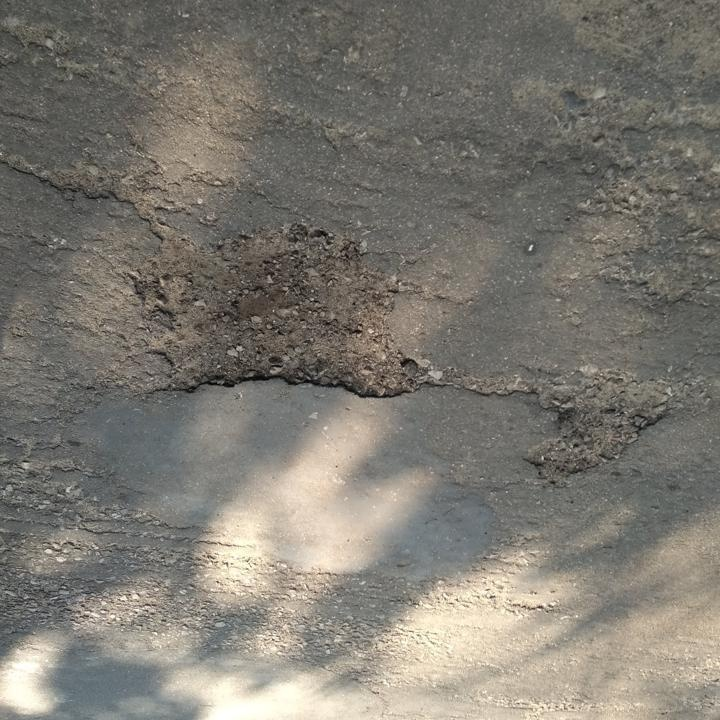pothole: (122, 212, 415, 407), (521, 362, 675, 482)
